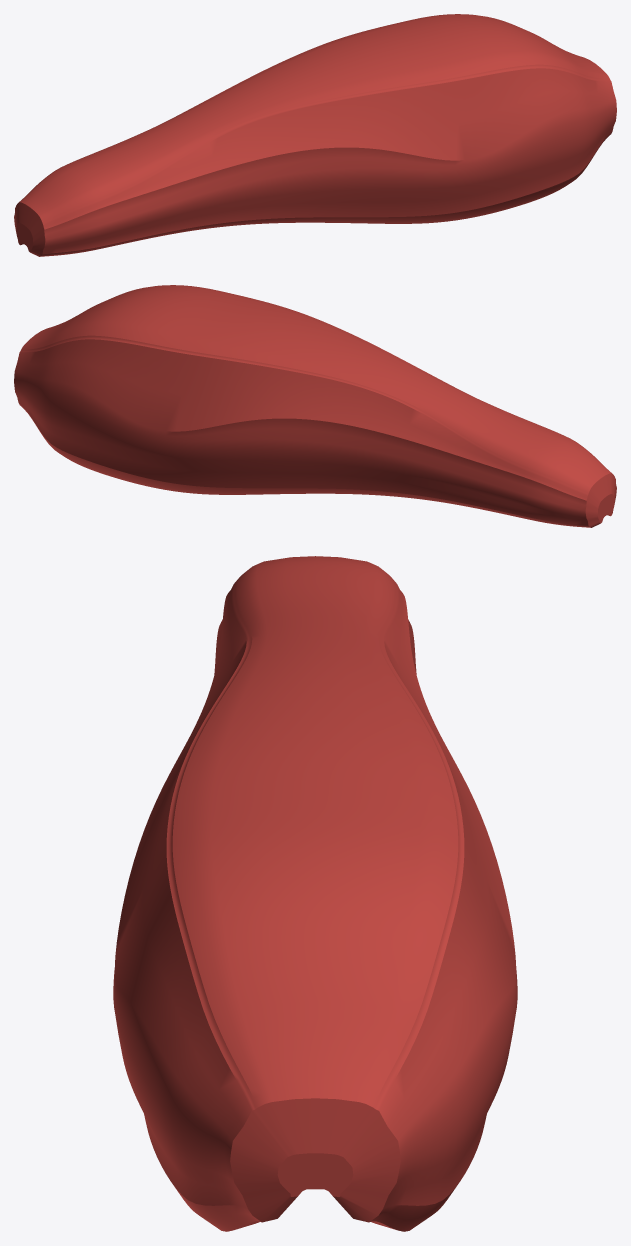
Rendered from cruiser_5_lod1.glb.
The picture shows the model from 3 angles, top to bottom: view 1: azimuth 30°, elevation 25°; view 2: azimuth 150°, elevation 25°; view 3: azimuth 270°, elevation 25°; orthographic projection. The views are drawn at different scales.
Visible parts, largest first — view 1: cruiser_5_lod1; view 2: cruiser_5_lod1; view 3: cruiser_5_lod1.
Part boxes in pixels (x1,y1,x2,y2): cruiser_5_lod1: [14, 14, 616, 256]; cruiser_5_lod1: [14, 285, 616, 527]; cruiser_5_lod1: [113, 556, 517, 1231].
Bounding box in the file's own units: 1.06 × 0.2828 × 0.3238.
